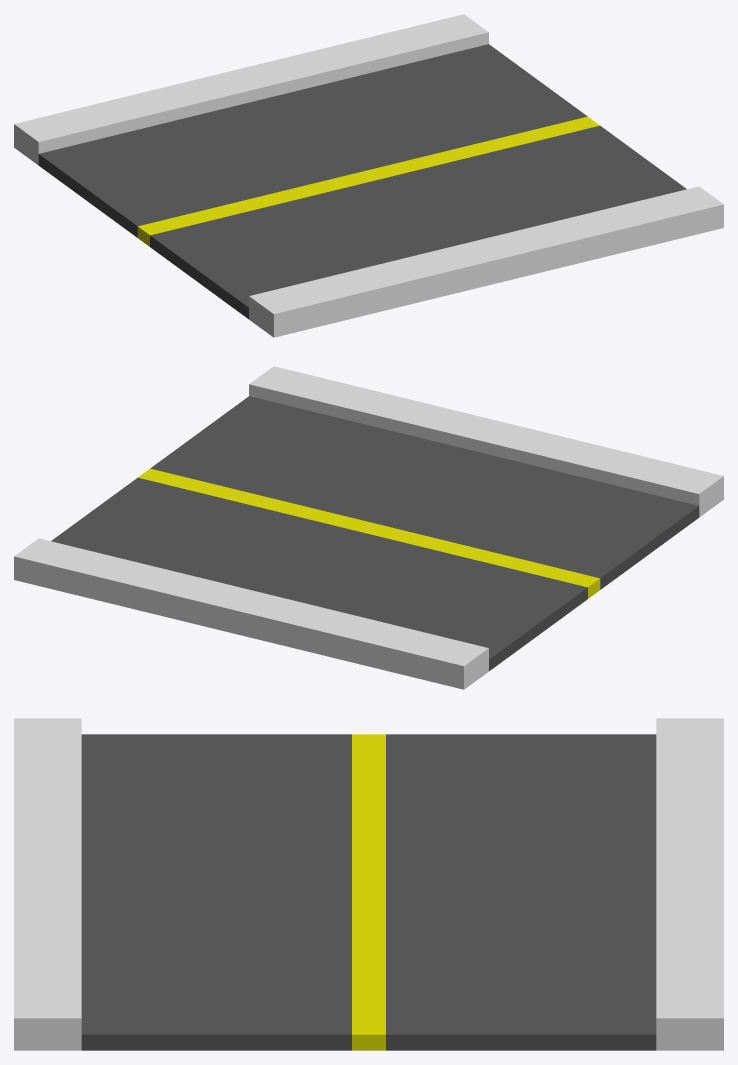
The model's file is road1.fbx.
The picture shows the model from 3 angles, top to bottom: view 1: azimuth 30°, elevation 25°; view 2: azimuth 150°, elevation 25°; view 3: azimuth 270°, elevation 25°; orthographic projection. The views are drawn at different scales.
Parts seen in each view (by area): view 1: road1; view 2: road1; view 3: road1.
Part boxes in pixels (x1,y1,x2,y2): road1: (14,14,723,337); road1: (14,366,723,689); road1: (14,718,723,1050).
Bounding box in the file's own units: 20 × 1 × 20.
